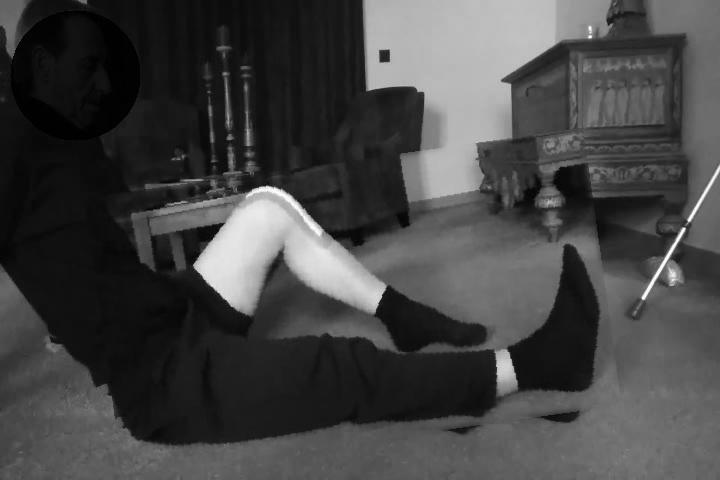lowerbody: (93, 147, 615, 459)
